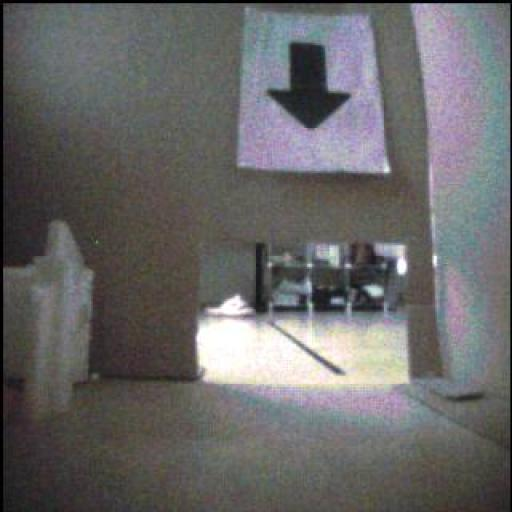arrow: (269, 44, 352, 129)
